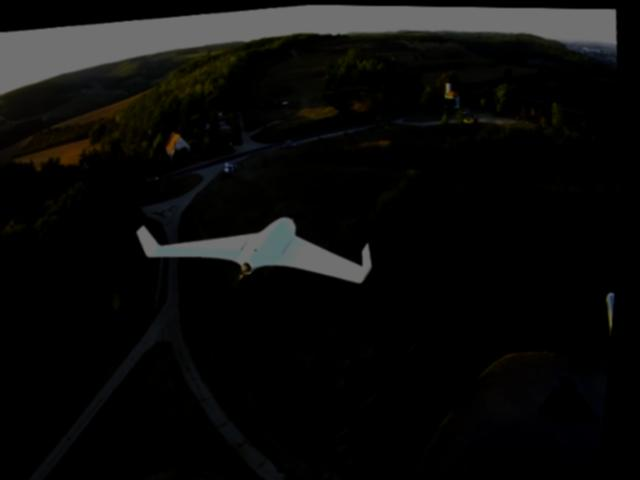plane: (133, 199, 384, 306)
